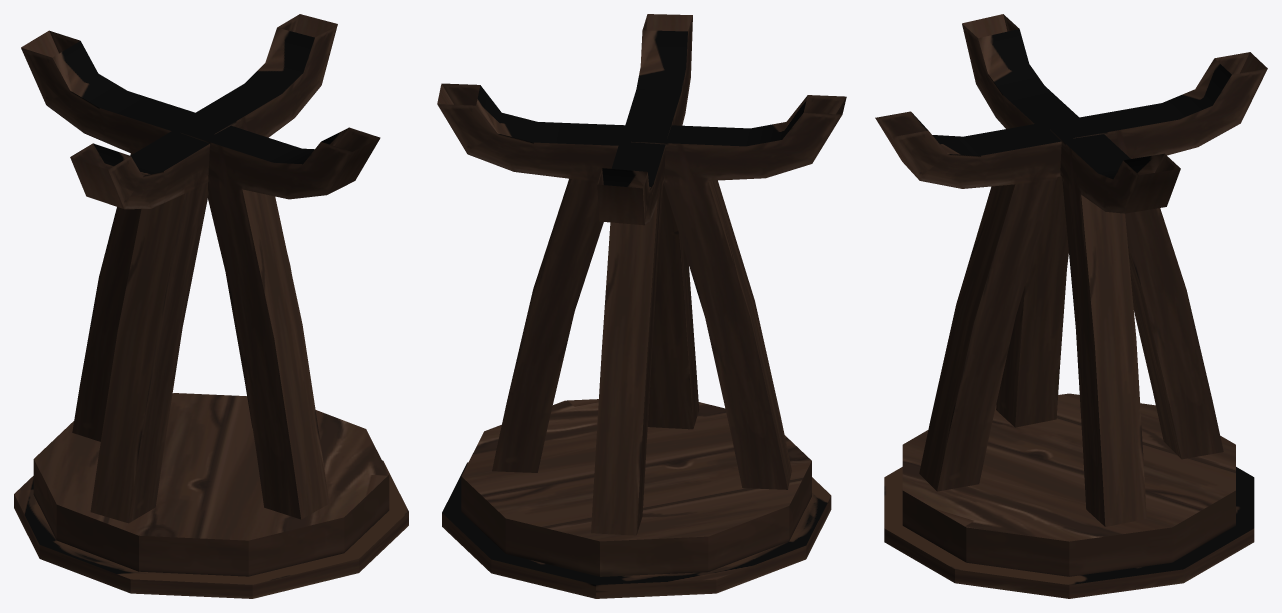
File: Bijzettafel.fbx
3 views of the same model, side by side, from view 1: azimuth 30°, elevation 25°; view 2: azimuth 150°, elevation 25°; view 3: azimuth 270°, elevation 25° (orthographic).
Parts seen in each view (by area): view 1: pasted__pasted__pasted__pasted__pCube1 (×2), pCylinder1, pasted__pasted__pasted__pCube1, pasted__pasted__pasted__pasted__pasted__pCube1; view 2: pCylinder1, pasted__pasted__pasted__pasted__pCube1 (×2), pasted__pasted__pasted__pasted__pasted__pCube1, pasted__pasted__pasted__pCube1; view 3: pasted__pasted__pasted__pasted__pCube1 (×2), pCylinder1, pasted__pasted__pasted__pasted__pasted__pCube1, pasted__pasted__pasted__pCube1.
Part boxes in pixels (left/top/right/bottom): pasted__pasted__pasted__pasted__pCube1 (×2): left=70, top=118, right=380, bottom=523; pCylinder1: left=14, top=393, right=408, bottom=598; pasted__pasted__pasted__pCube1: left=21, top=30, right=220, bottom=441; pasted__pasted__pasted__pasted__pasted__pCube1: left=196, top=14, right=337, bottom=427; pCylinder1: left=442, top=399, right=831, bottom=598; pasted__pasted__pasted__pasted__pCube1 (×2): left=625, top=14, right=846, bottom=489; pasted__pasted__pasted__pasted__pasted__pCube1: left=437, top=83, right=652, bottom=472; pasted__pasted__pasted__pCube1: left=591, top=130, right=665, bottom=535; pasted__pasted__pasted__pasted__pCube1 (×2): left=875, top=14, right=1092, bottom=491; pCylinder1: left=884, top=393, right=1254, bottom=598; pasted__pasted__pasted__pasted__pasted__pCube1: left=1050, top=127, right=1180, bottom=526; pasted__pasted__pasted__pCube1: left=1068, top=52, right=1267, bottom=459.
Size of the model in its own units: 2.02 by 2.37 by 2.02.
